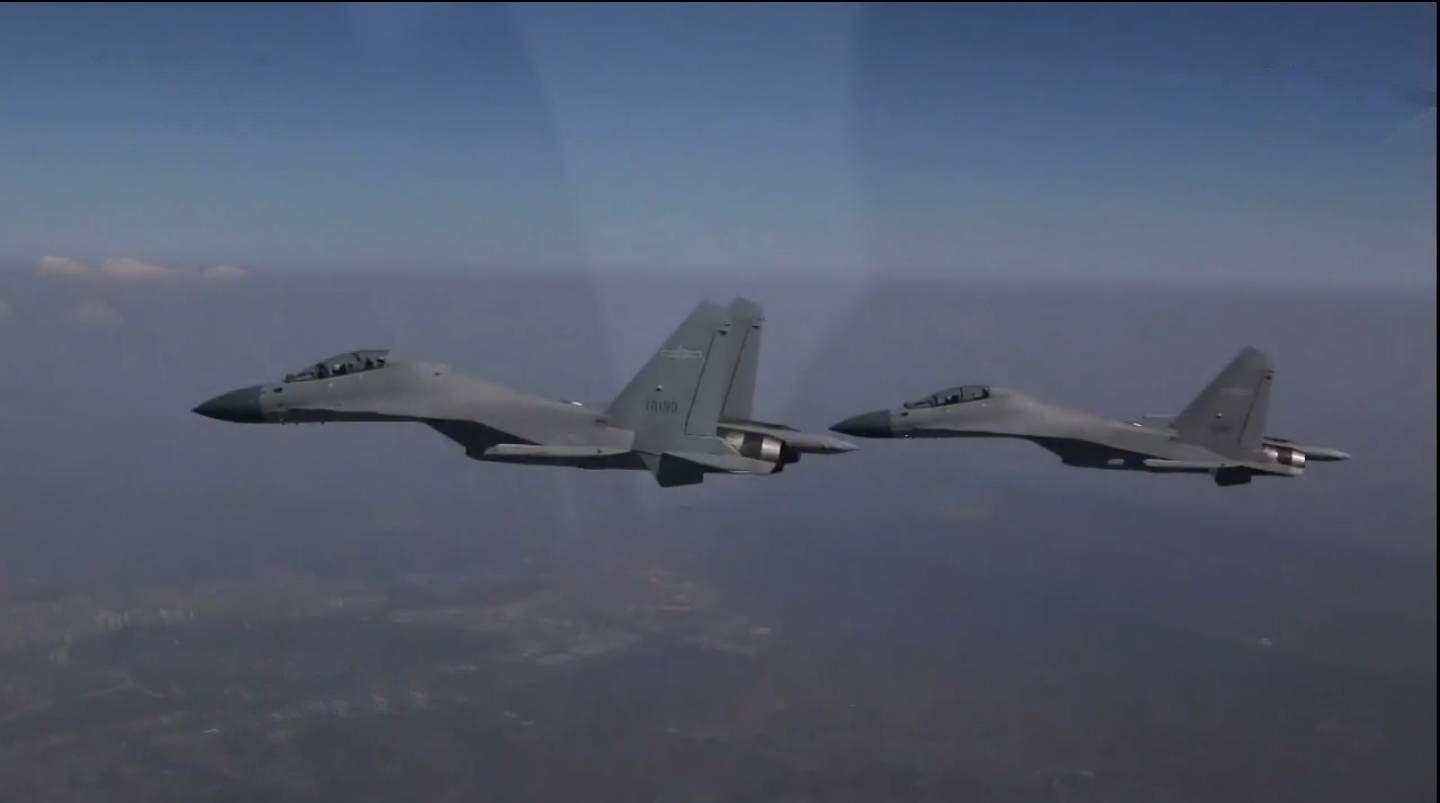airplane: (179, 282, 805, 485), (818, 317, 1356, 484)
